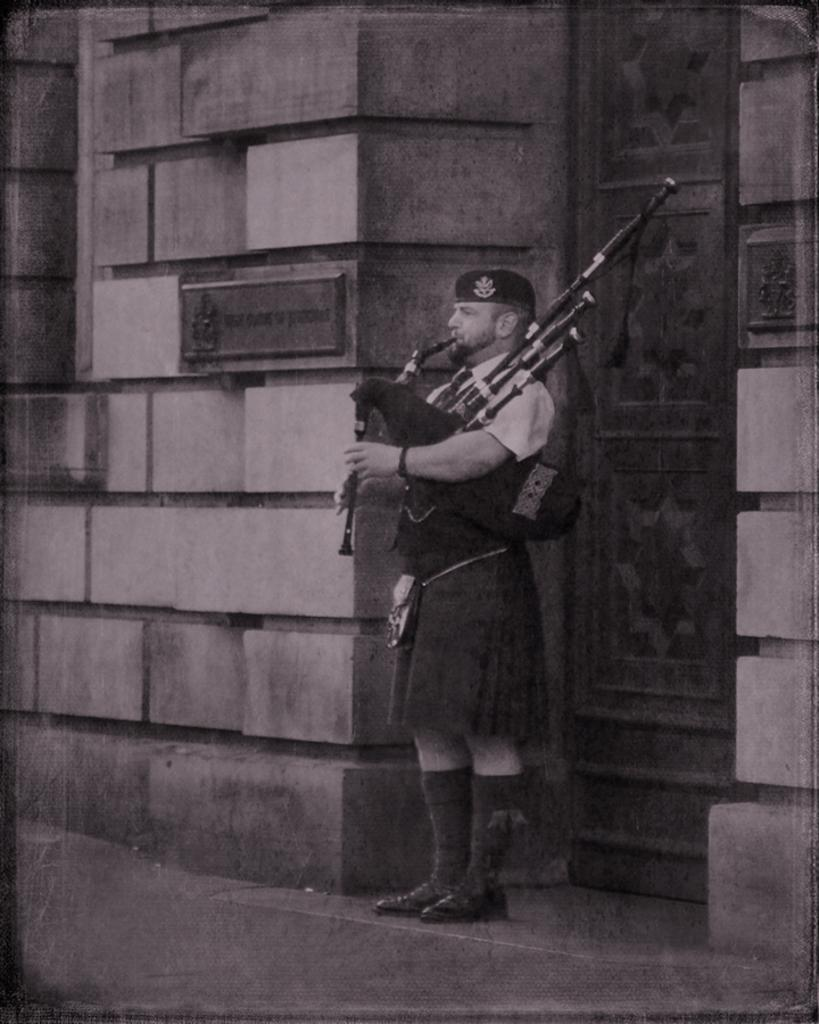Rifle: (389, 216, 650, 459)
